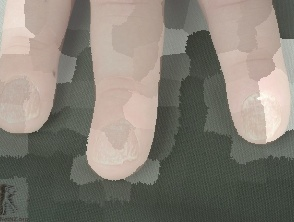Nail_psoriasis: (78, 101, 157, 186), (221, 71, 294, 152), (0, 63, 50, 135)
